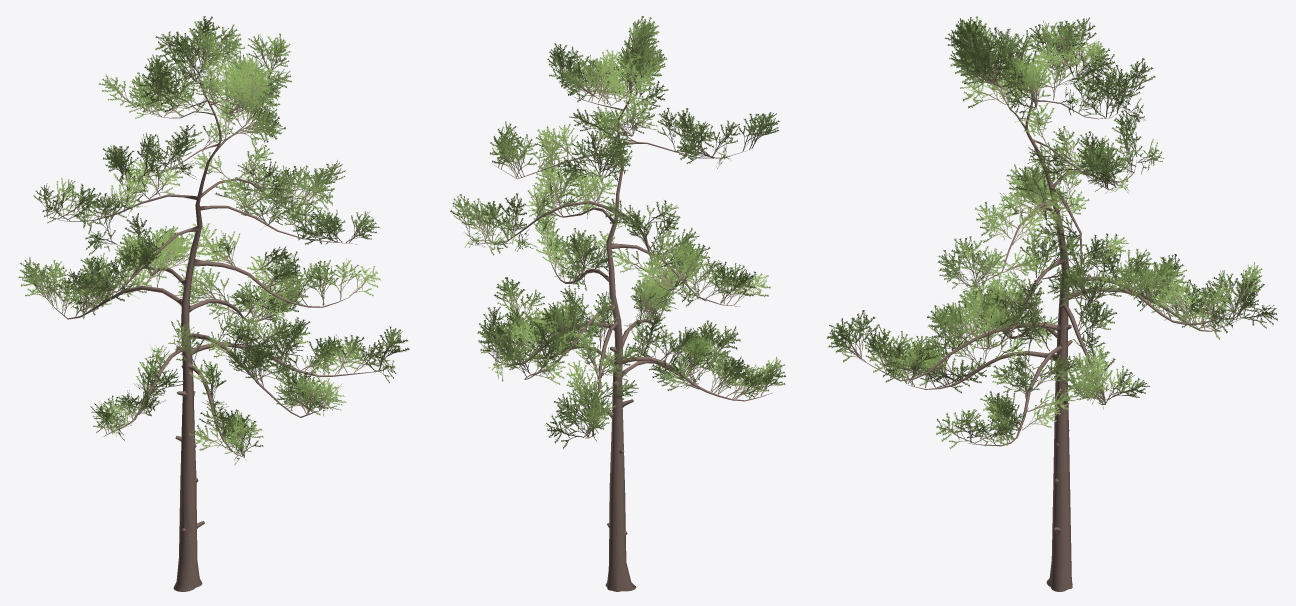
The model's file is tree_Pine_B_L1_LOD0.fbx.
The picture shows the model from 3 angles, left to right: view 1: azimuth 30°, elevation 25°; view 2: azimuth 150°, elevation 25°; view 3: azimuth 270°, elevation 25°; orthographic projection. The views are drawn at different scales.
Parts seen in each view (by area): view 1: Pine_B_L1_LOD0; view 2: Pine_B_L1_LOD0; view 3: Pine_B_L1_LOD0.
Boxes of the visible parts, x1,y1,x2,y2 form: Pine_B_L1_LOD0: [18, 16, 409, 591]; Pine_B_L1_LOD0: [450, 16, 785, 591]; Pine_B_L1_LOD0: [827, 16, 1277, 591].
Size of the model in its own units: 1308 by 2194 by 1584.
